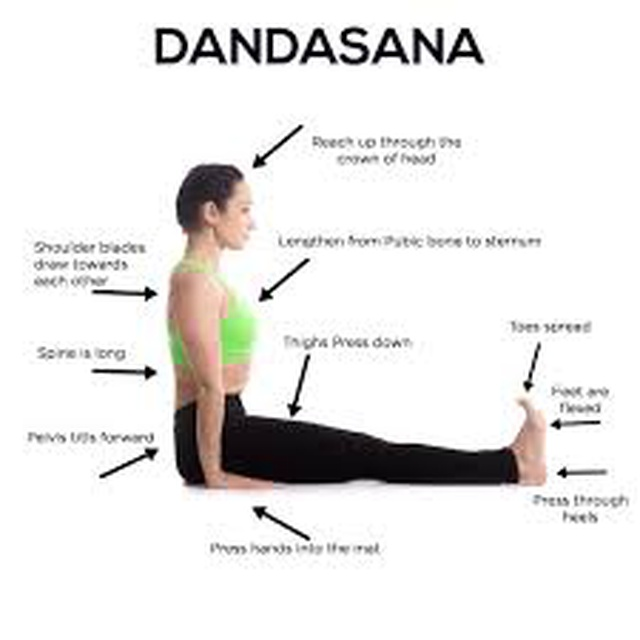Staff_Pose: (166, 163, 549, 491)
